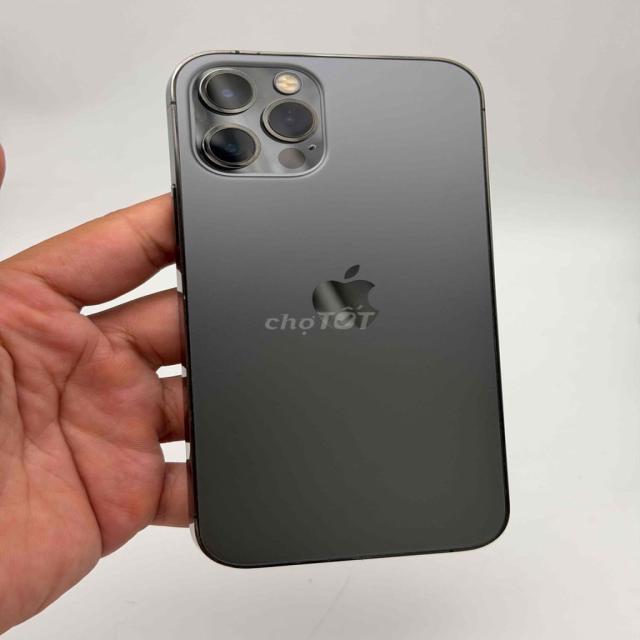gen_12_13: (166, 48, 514, 574)
